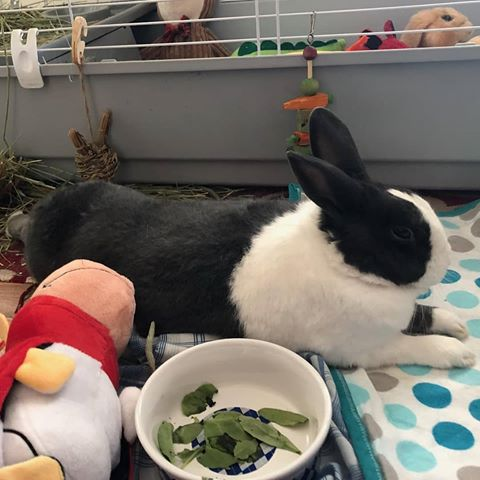bunny: (25, 97, 480, 381)
